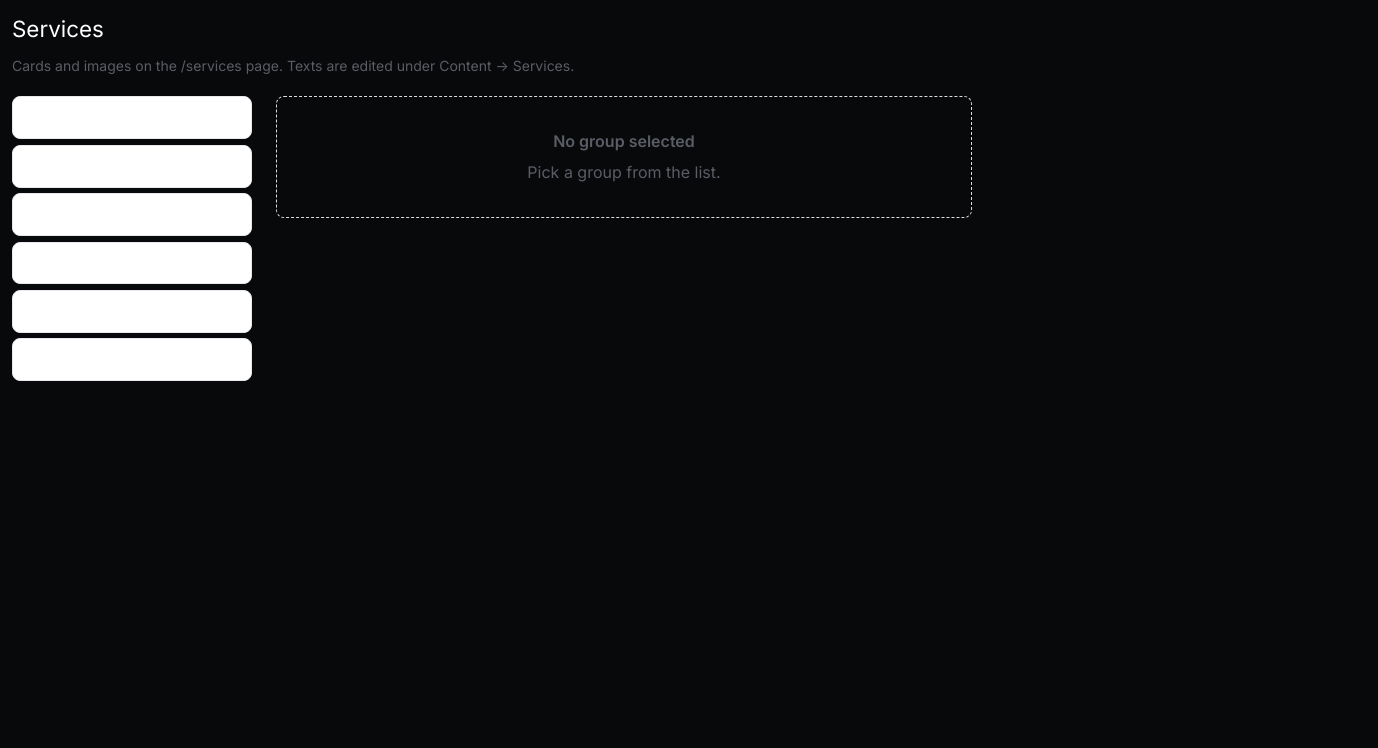
ServicesPageCards › Google Ads: badge and 4 feature items, no illustration
The width and height of the screenshot is (1378, 748).
Step 1. Click the button "Google Ads" → (132, 360), box [12,338,252,381]
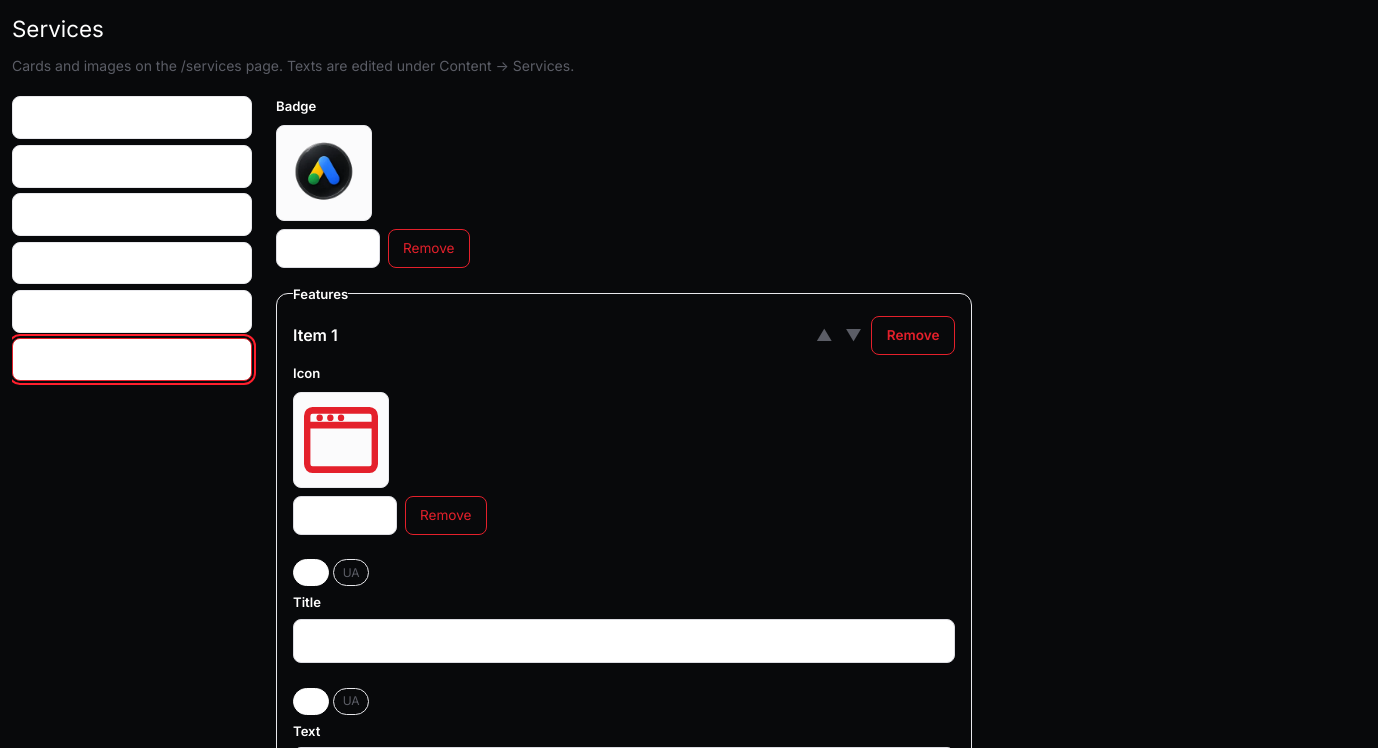
Now the text "Badge" is shown, box [276,98,316,114]
Now the text "Item 1" is shown 4 times
